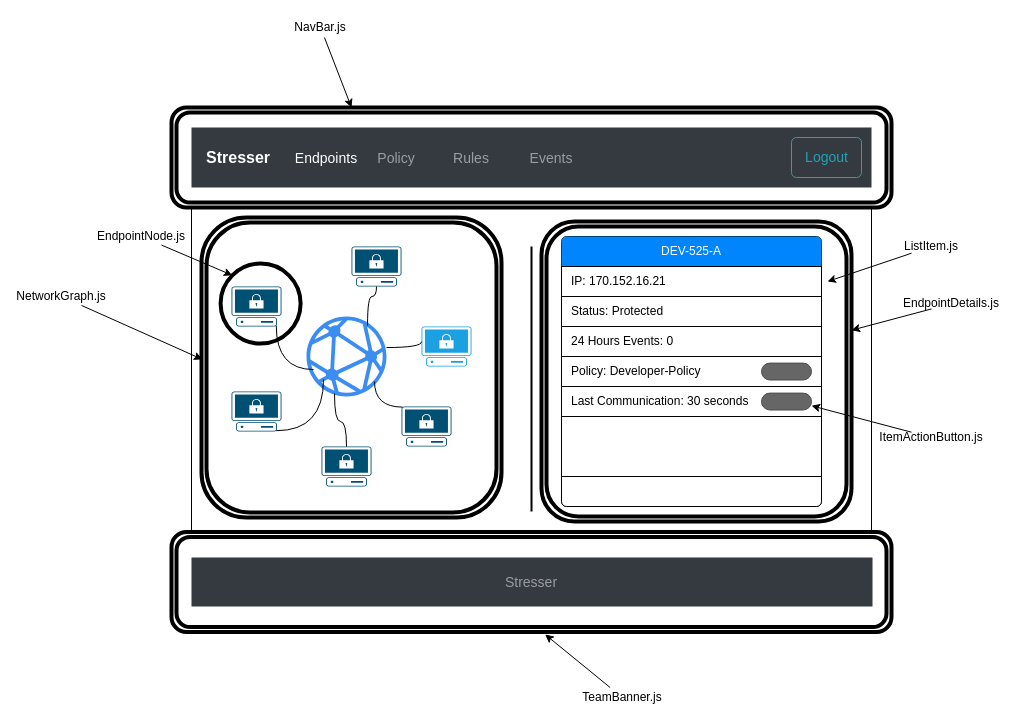
Some shapes in this 1017 by 724 pixel diagram are drawn without their labels. Each missing label, with the centre of its shape:
"change" belongs at point 786,371.
"Refresh" belongs at point 786,401.
